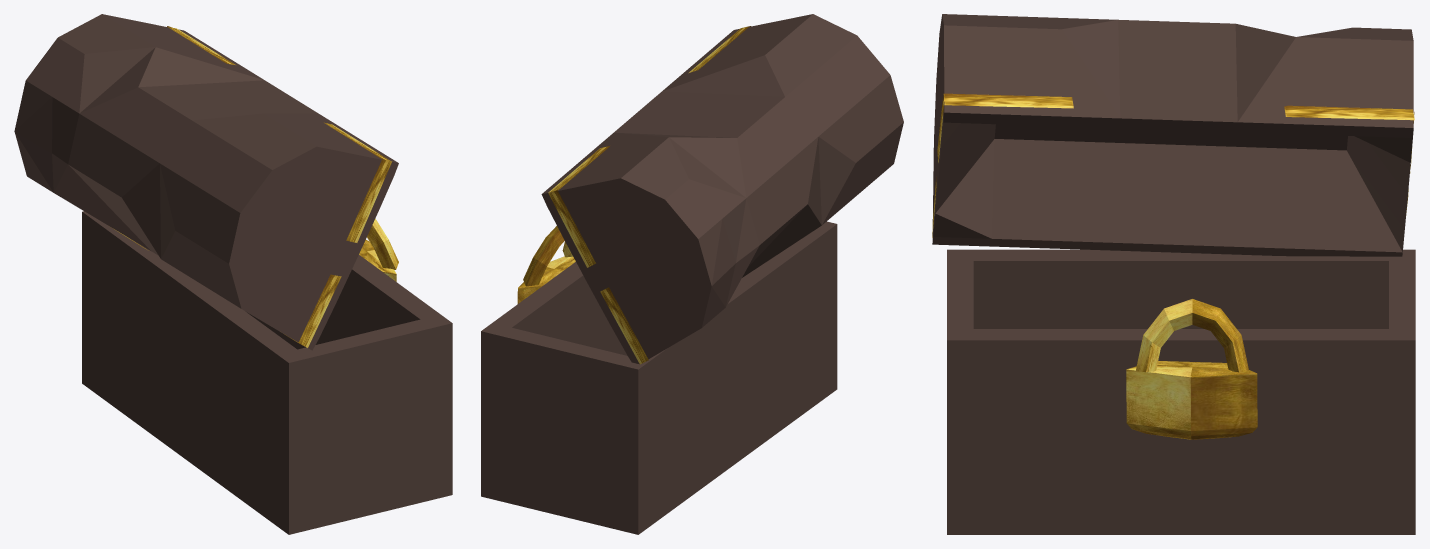
Rendered from 170106_Schatztruhe(1).fbx.
3 renders of one model, left to right at view 1: azimuth 30°, elevation 25°; view 2: azimuth 150°, elevation 25°; view 3: azimuth 270°, elevation 25°, orthographic. The views are drawn at different scales.
Parts seen in each view (by area): view 1: Würfel_1, Lid, Ebene_3, Ebene_6, Lock_top; view 2: Lid, Würfel_1, Lock_top, Ebene_2, Ebene, Lock_bottom; view 3: Würfel_1, Lid, Lock_bottom, Lock_top, Ebene_5, Ebene_4.
Part boxes in pixels (x1=…): Würfel_1: x1=82, y1=211, x2=452, y2=534; Lid: x1=14, y1=14, x2=398, y2=350; Ebene_3: x1=346, y1=159, x2=392, y2=242; Ebene_6: x1=298, y1=274, x2=341, y2=347; Lock_top: x1=367, y1=219, x2=398, y2=269; Lid: x1=541, y1=14, x2=903, y2=364; Würfel_1: x1=481, y1=221, x2=837, y2=534; Lock_top: x1=523, y1=226, x2=572, y2=286; Ebene_2: x1=600, y1=287, x2=648, y2=364; Ebene: x1=548, y1=190, x2=595, y2=267; Lock_bottom: x1=517, y1=256, x2=575, y2=303; Würfel_1: x1=947, y1=249, x2=1415, y2=534; Lid: x1=932, y1=14, x2=1413, y2=256; Lock_bottom: x1=1126, y1=361, x2=1257, y2=439; Lock_top: x1=1135, y1=299, x2=1248, y2=372; Ebene_5: x1=943, y1=93, x2=1073, y2=108; Ebene_4: x1=1284, y1=105, x2=1414, y2=120.
Bounding box in the file's own units: 154 × 206 × 208.
2 materials, 1 textured.
